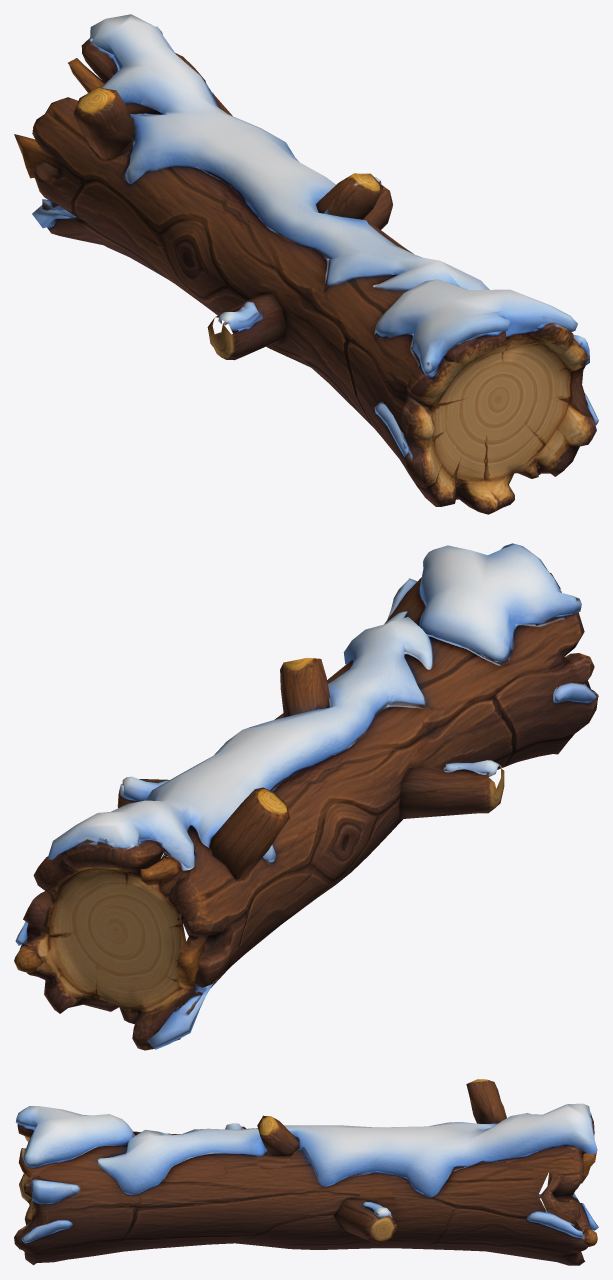
The model's file is snow-log.glb.
3 views of the same model, one above another, from view 1: azimuth 30°, elevation 25°; view 2: azimuth 150°, elevation 25°; view 3: azimuth 270°, elevation 25° (orthographic). The views are drawn at different scales.
Parts seen in each view (by area): view 1: tripo_node_c5406e3e; view 2: tripo_node_c5406e3e; view 3: tripo_node_c5406e3e.
Part boxes in pixels (x1,y1,x2,y2): tripo_node_c5406e3e: [14, 14, 598, 514]; tripo_node_c5406e3e: [14, 543, 598, 1050]; tripo_node_c5406e3e: [14, 1079, 598, 1265].
Size of the model in its own units: 0.3807 by 0.2838 by 0.995.
1 material, 1 textured.
